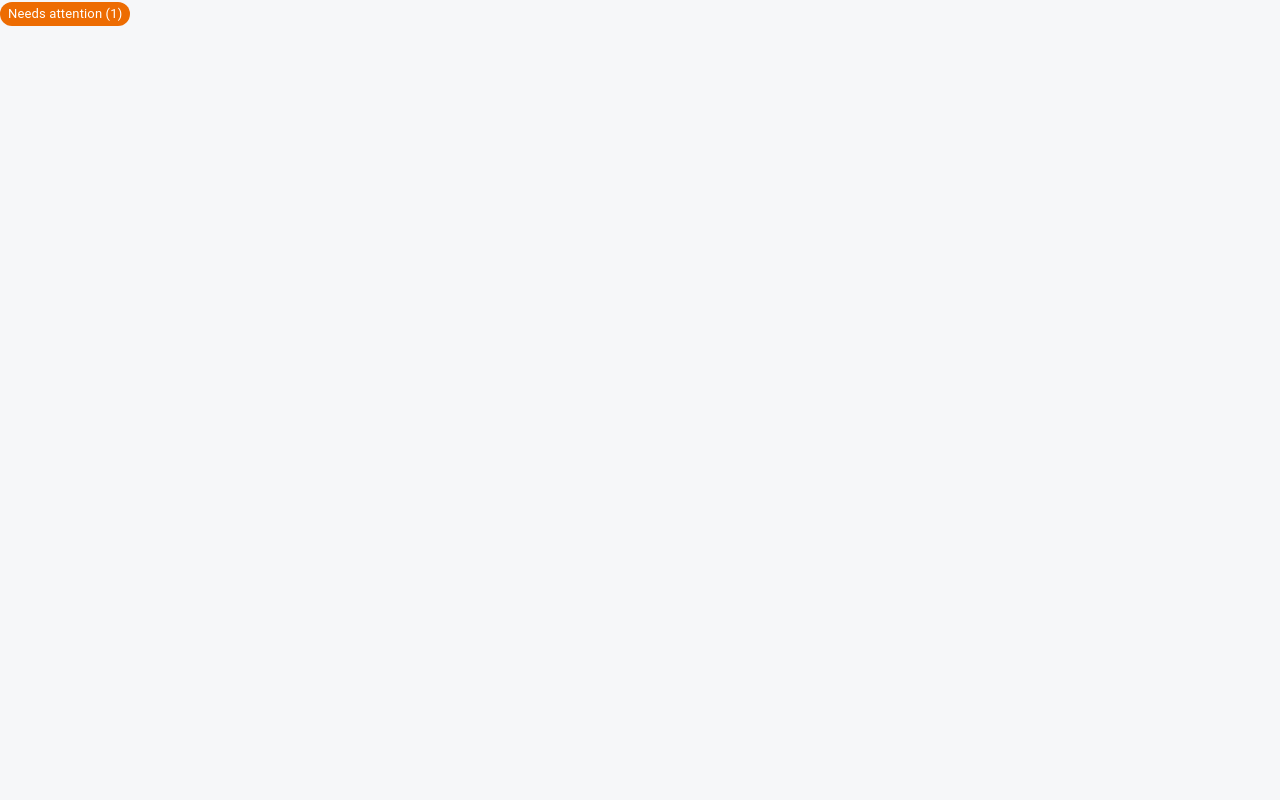
Scenario: HealthChip › a colleague sees their own findings and who the rest belong to
Click the button with test id "health-chip" at (65, 14), box [0,2,130,26]
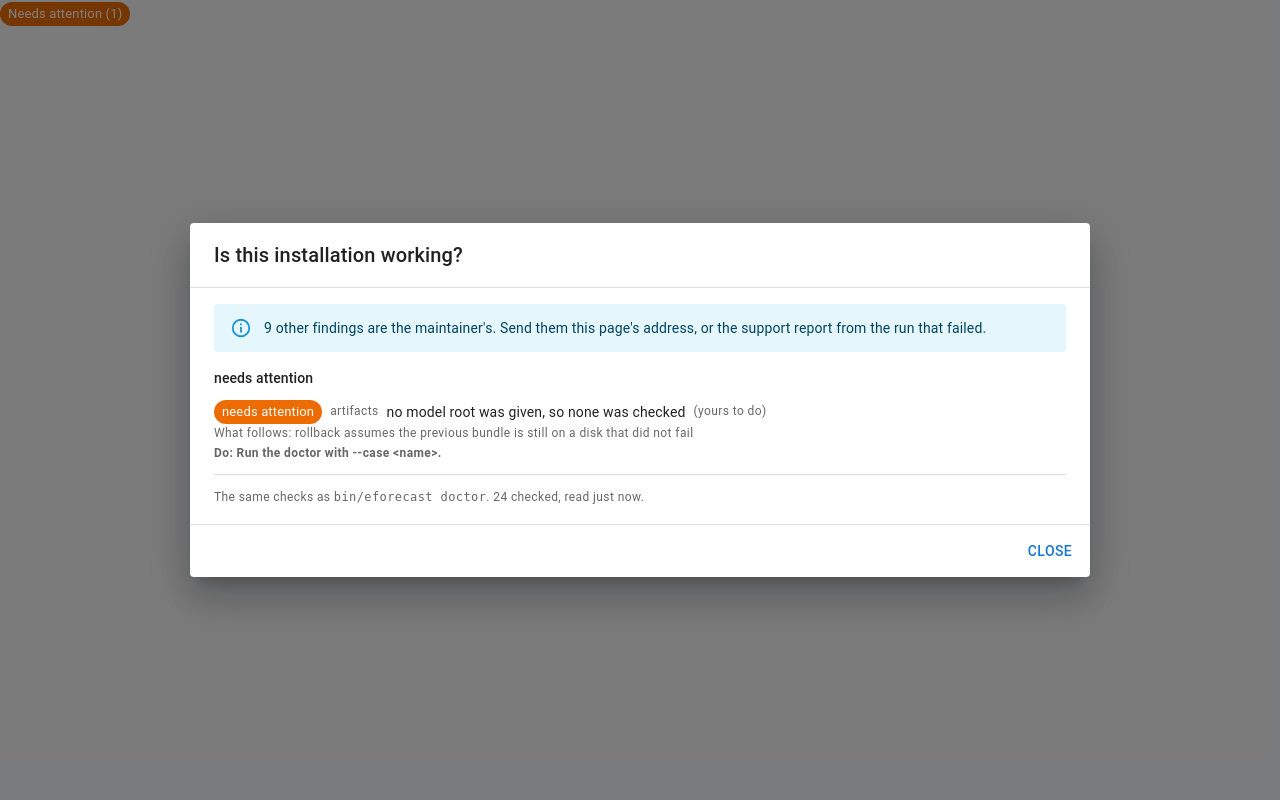
Expected: the list item with test id "health-finding-artifacts" shows "yours to do", [698,404,762,418]
Expected: the message with test id "health-maintainer-count" shows "9 other findings are the", [214,304,1066,352]
